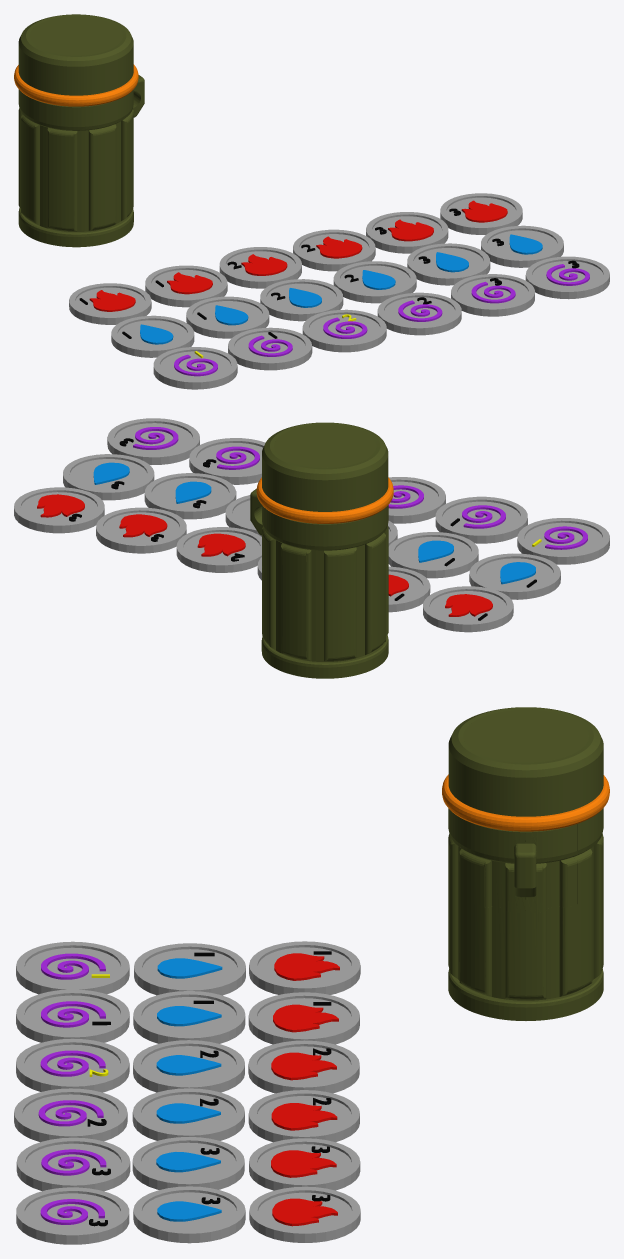
The model's file is 撮影スタジオ.glb.
The picture shows the model from 3 angles, top to bottom: view 1: azimuth 30°, elevation 25°; view 2: azimuth 150°, elevation 25°; view 3: azimuth 270°, elevation 25°; orthographic projection. The views are drawn at different scales.
Visible parts, largest first — view 1: body_0923, cap_0924, 風1700.012, 風1700.041, 風1700.011, 風1700.003, 風1700.024, 火1700.004, 水1700.022, 水1700, 水1700.001, 火1700.015 (+10 smaller); view 2: body_0923, cap_0924, 火1700.004, 火1700.002, 風1700.012, 火1700.026, 風1700.003, 水1700.001, 水1700.010, 火1700.008, 水1700.022, 水1700.004 (+7 smaller); view 3: body_0923, cap_0924, 風1700.003, 水1700.004, 火1700.002, 風1700.024, 風1700.011, 風1700.012, 風1700.041, 火1700.004, 水1700.010, 水1700.001 (+10 smaller).
Part boxes in pixels (x1,y1,x2,y2): body_0923: [18, 75, 144, 247]; cap_0924: [18, 14, 133, 95]; 風1700.012: [228, 327, 312, 370]; 風1700.041: [377, 292, 461, 335]; 風1700.011: [302, 309, 386, 352]; 風1700.003: [525, 256, 609, 299]; 風1700.024: [451, 274, 534, 316]; 火1700.004: [69, 283, 151, 324]; 水1700.022: [111, 315, 194, 357]; 水1700: [333, 261, 416, 303]; 水1700.001: [186, 296, 269, 338]; 火1700.015: [219, 247, 301, 288]; body_0923: [250, 489, 388, 678]; cap_0924: [262, 422, 388, 511]; 火1700.004: [423, 586, 513, 632]; 火1700.002: [14, 487, 104, 533]; 風1700.012: [435, 496, 527, 543]; 火1700.026: [96, 507, 186, 553]; 風1700.003: [107, 418, 199, 464]; 水1700.001: [388, 532, 478, 578]; 水1700.010: [144, 473, 236, 519]; 火1700.008: [176, 527, 261, 572]; 水1700.022: [469, 553, 560, 599]; 水1700.004: [63, 454, 154, 500]; body_0923: [448, 808, 603, 1020]; cap_0924: [448, 707, 603, 816]; 風1700.003: [16, 1187, 129, 1244]; 水1700.004: [133, 1186, 245, 1243]; 火1700.002: [249, 1186, 360, 1242]; 風1700.024: [16, 1137, 130, 1191]; 風1700.011: [16, 1038, 129, 1092]; 風1700.012: [16, 989, 129, 1042]; 風1700.041: [14, 1088, 127, 1142]; 火1700.004: [249, 941, 360, 994]; 水1700.010: [132, 1137, 244, 1189]; 水1700.001: [133, 991, 245, 1043].
Size of the model in its own units: 5.06 by 2.19 by 4.35.
